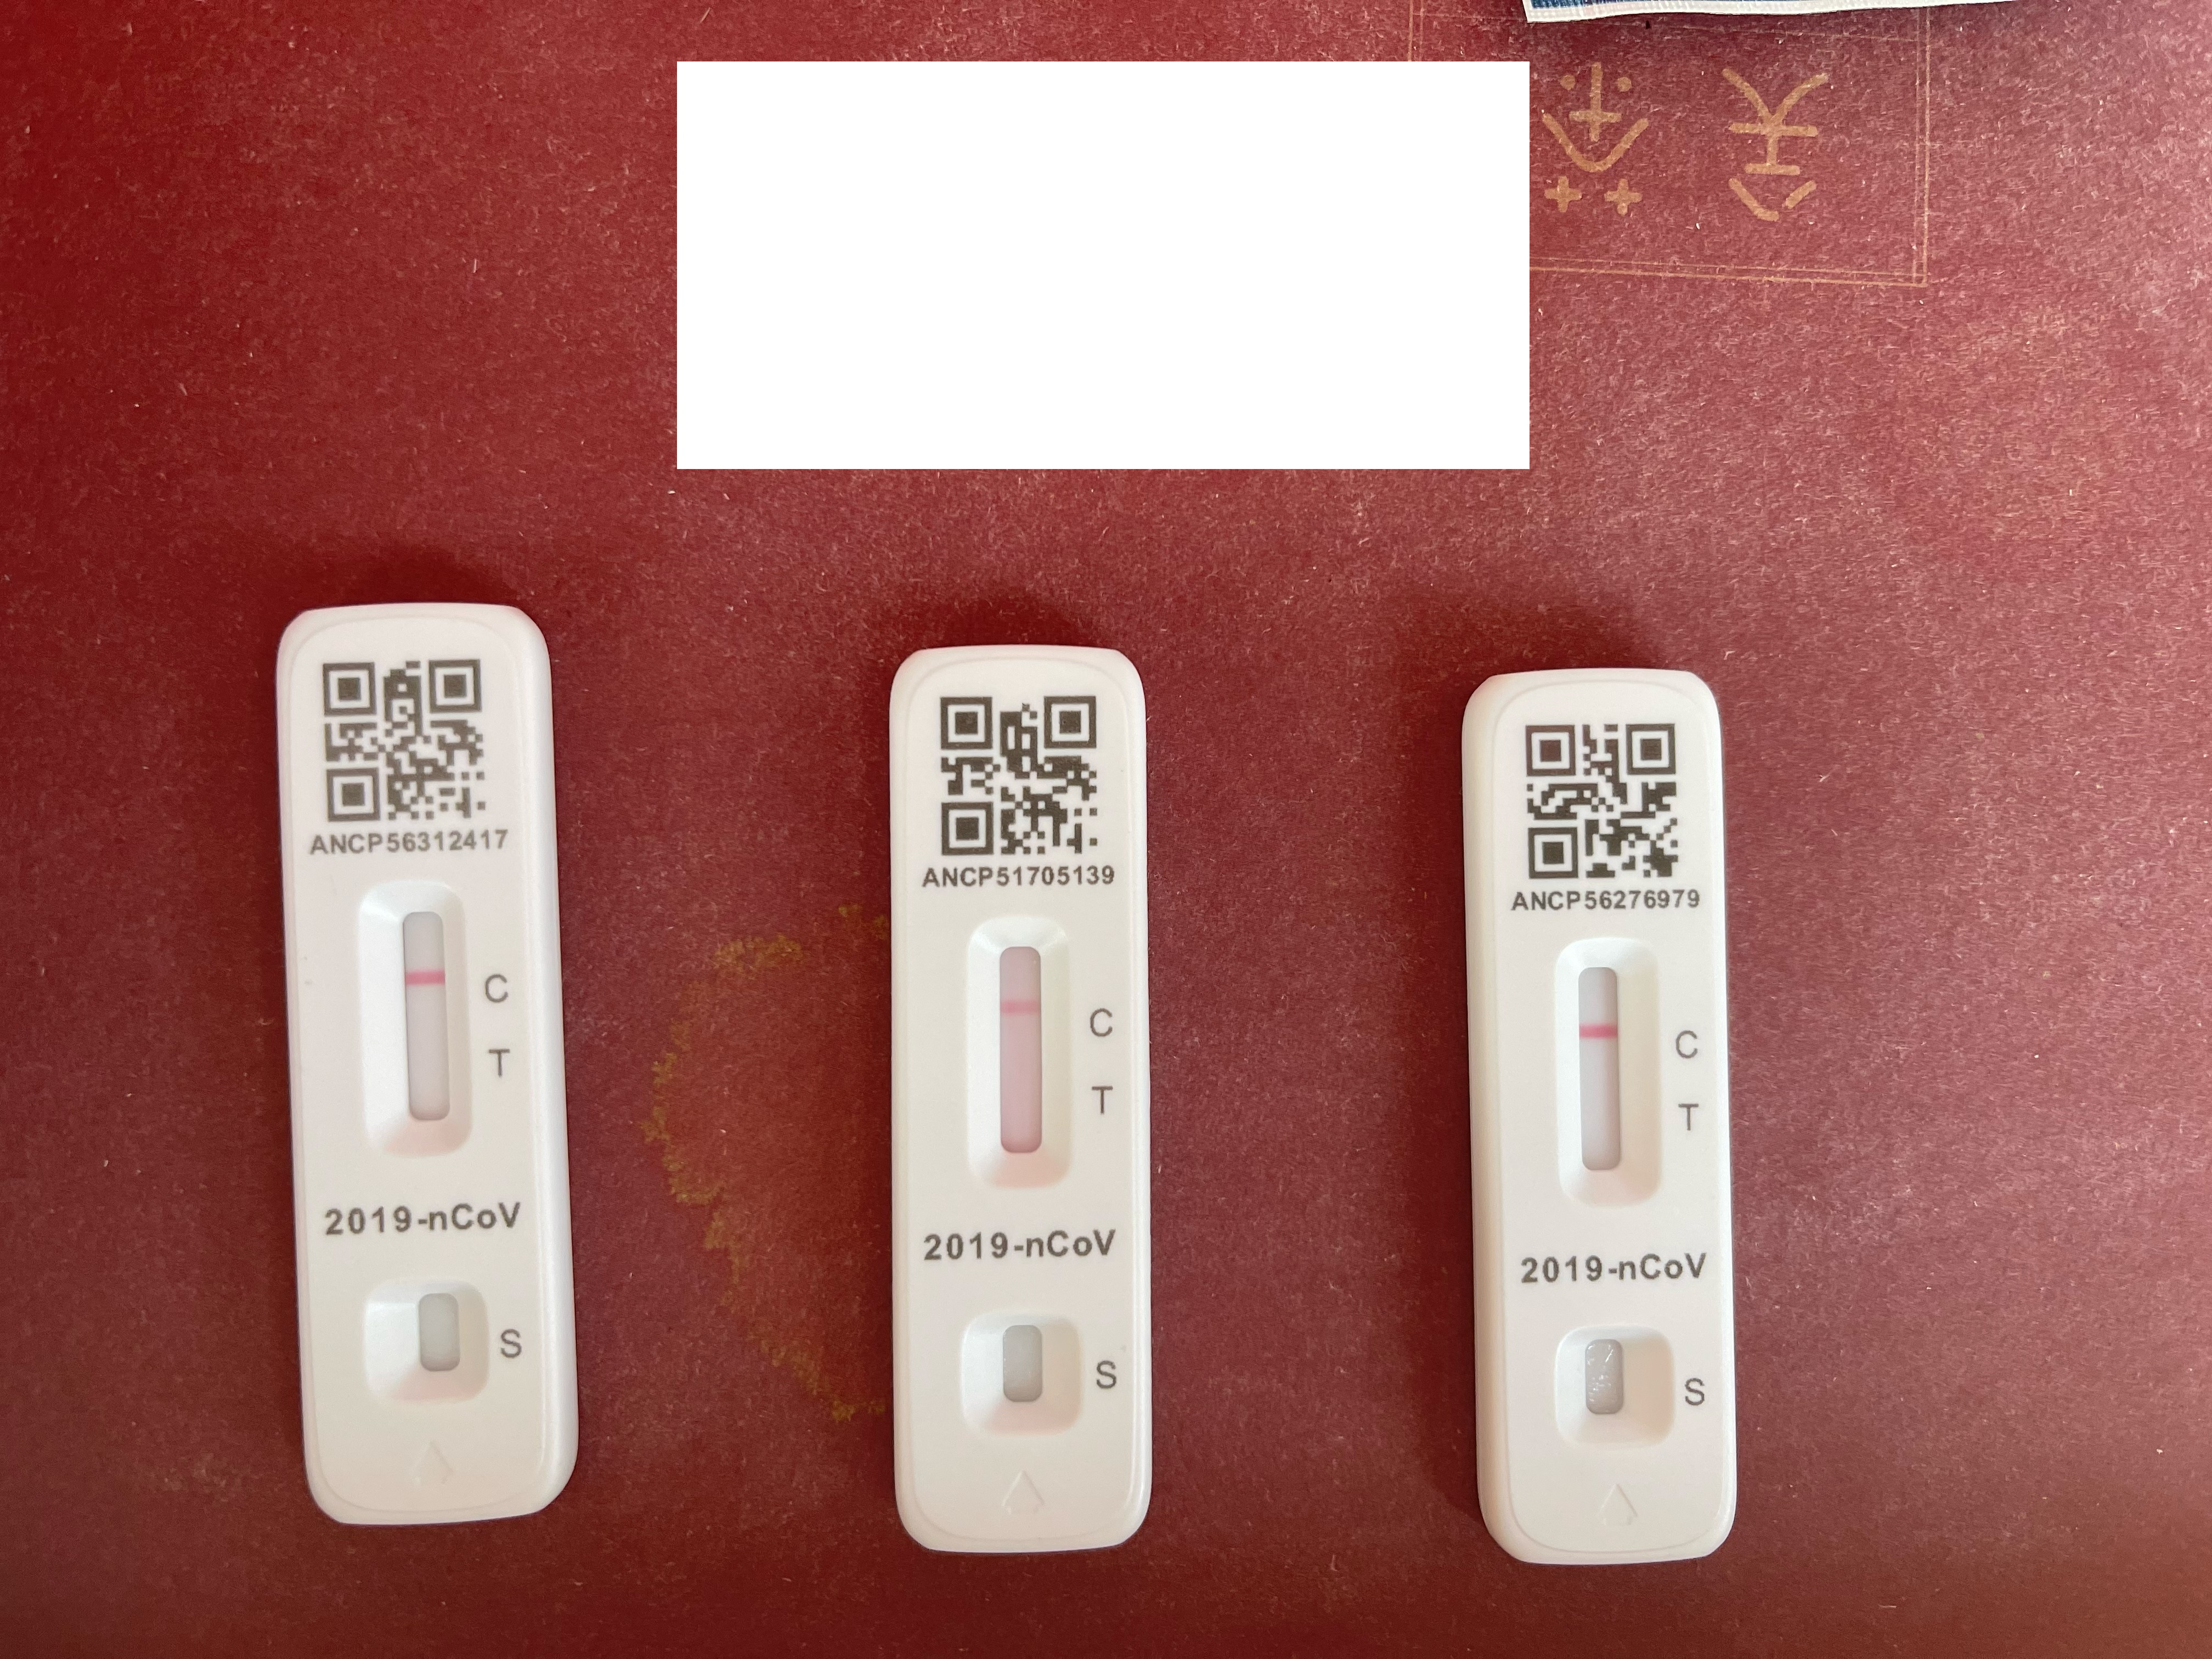negative: (362, 877, 469, 1148), (1555, 934, 1660, 1204), (967, 915, 1069, 1182)
